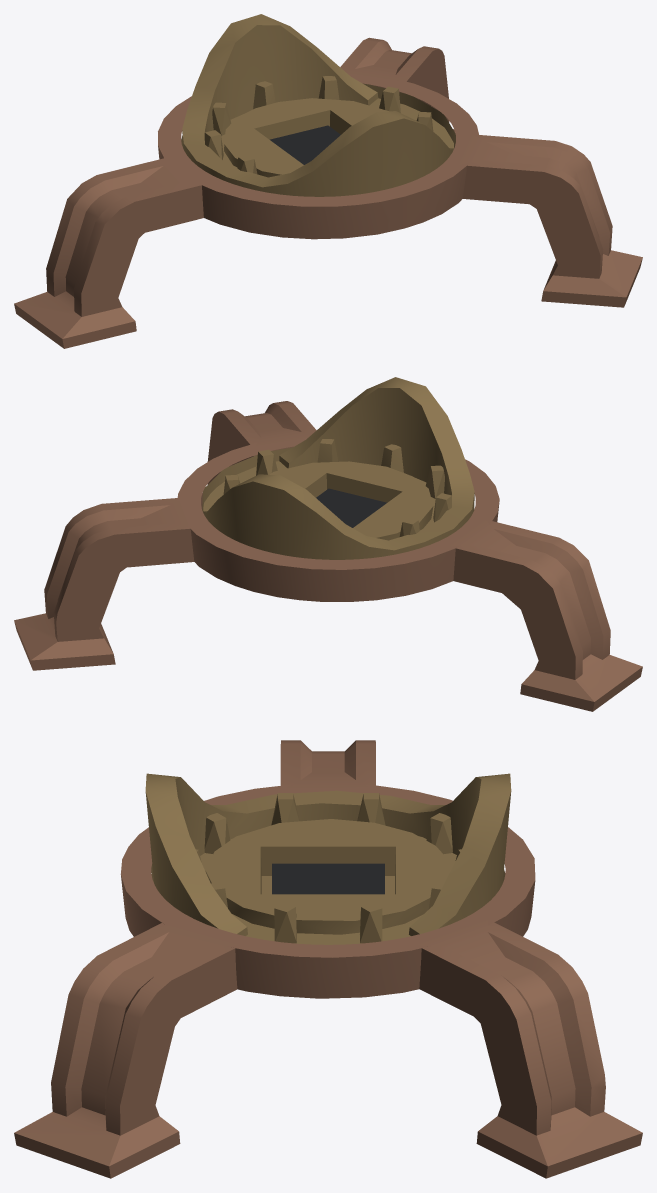
Rendered from burner-inserter-west.glb.
3 views of the same model, one above another, from view 1: azimuth 30°, elevation 25°; view 2: azimuth 150°, elevation 25°; view 3: azimuth 270°, elevation 25° (orthographic). The views are drawn at different scales.
Parts seen in each view (by area): view 1: body; view 2: body; view 3: body.
Boxes of the visible parts, box(x1,y1,x2,y2) form: body: box(14, 14, 642, 348); body: box(14, 377, 642, 711); body: box(14, 740, 642, 1178).
Size of the model in its own units: 1.15 by 0.4117 by 0.938.
